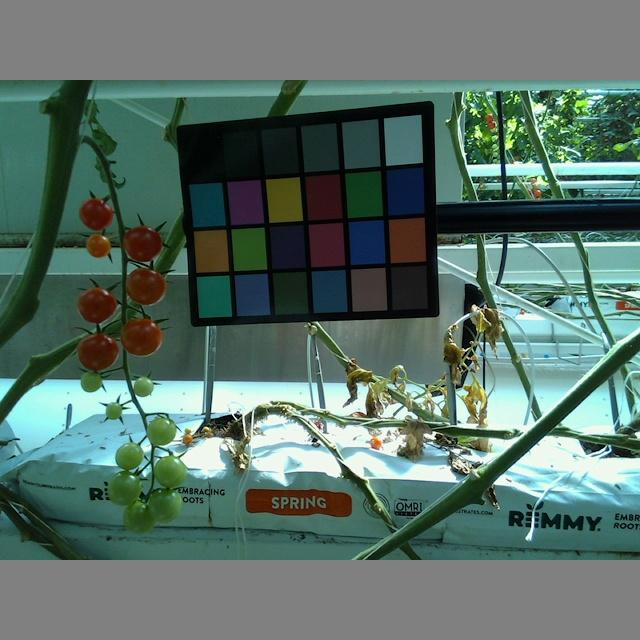green: (104, 471, 142, 506), (124, 497, 158, 533), (154, 454, 190, 487), (147, 489, 182, 522), (146, 416, 177, 447), (117, 441, 144, 469), (79, 371, 102, 390), (132, 377, 154, 396), (104, 402, 125, 420)
pink: (120, 318, 163, 356), (78, 333, 120, 371), (119, 225, 163, 261), (126, 268, 167, 306), (79, 287, 118, 324), (77, 200, 115, 231), (85, 231, 111, 257)
